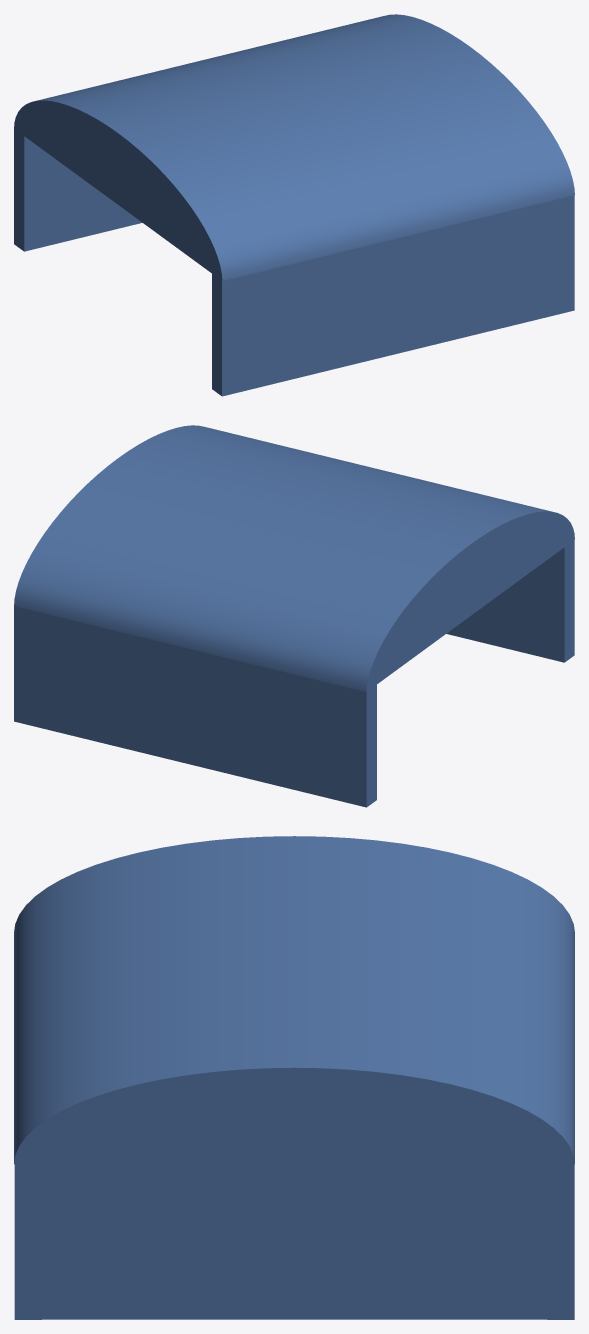
Rendered from aircraft-hangar.gltf.
3 views of the same model, one above another, from view 1: azimuth 30°, elevation 25°; view 2: azimuth 150°, elevation 25°; view 3: azimuth 270°, elevation 25° (orthographic). The views are drawn at different scales.
Parts seen in each view (by area): view 1: base; view 2: base; view 3: base.
Part boxes in pixels (bbox=[...]): base: bbox=[14, 14, 574, 396]; base: bbox=[14, 425, 574, 807]; base: bbox=[14, 836, 574, 1319].
Size of what is drawn, in the model's own units: 0.1 by 0.0507 by 0.1023.
